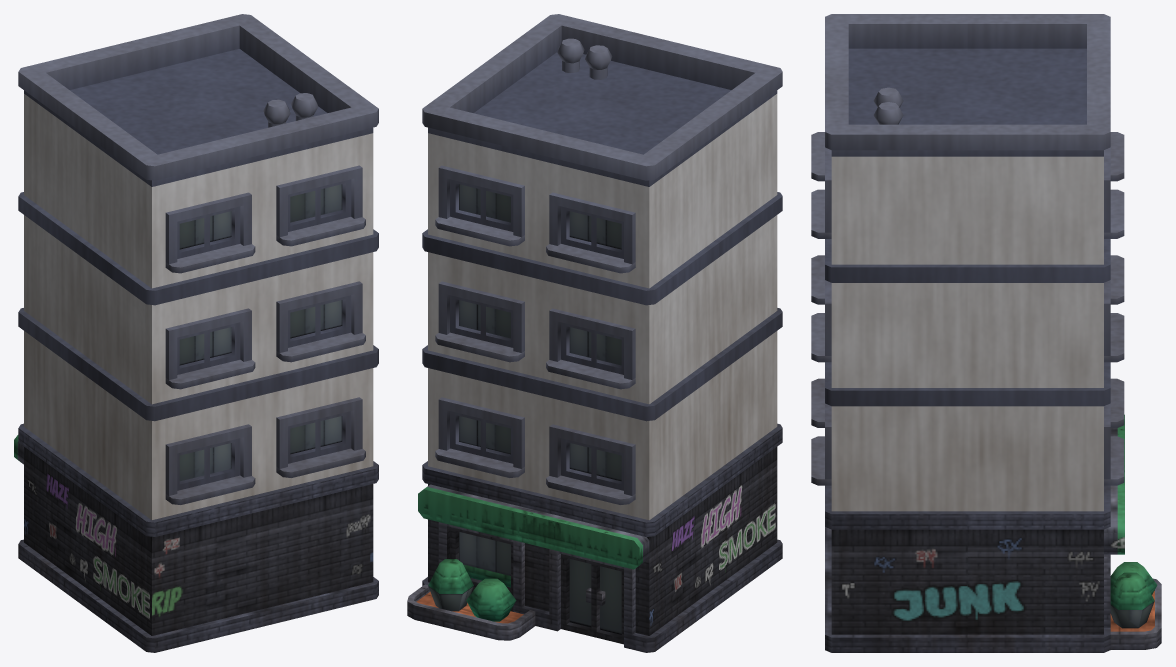
The model's file is building-f-white-scuffed.glb.
The picture shows the model from 3 angles, left to right: view 1: azimuth 30°, elevation 25°; view 2: azimuth 150°, elevation 25°; view 3: azimuth 270°, elevation 25°; orthographic projection. The views are drawn at different scales.
Parts seen in each view (by area): view 1: building-f; view 2: building-f; view 3: building-f.
Part boxes in pixels (x1,y1,x2,y2): building-f: (14,14,378,652); building-f: (407,14,782,652); building-f: (811,14,1161,652).
Size of the model in its own units: 0.84 by 1.69 by 1.03.
1 material, 1 textured.
